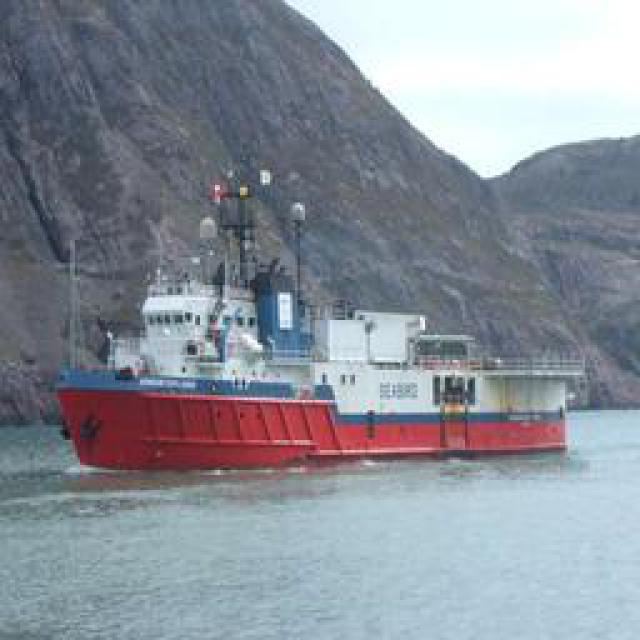Ship: (62, 251, 572, 474)
